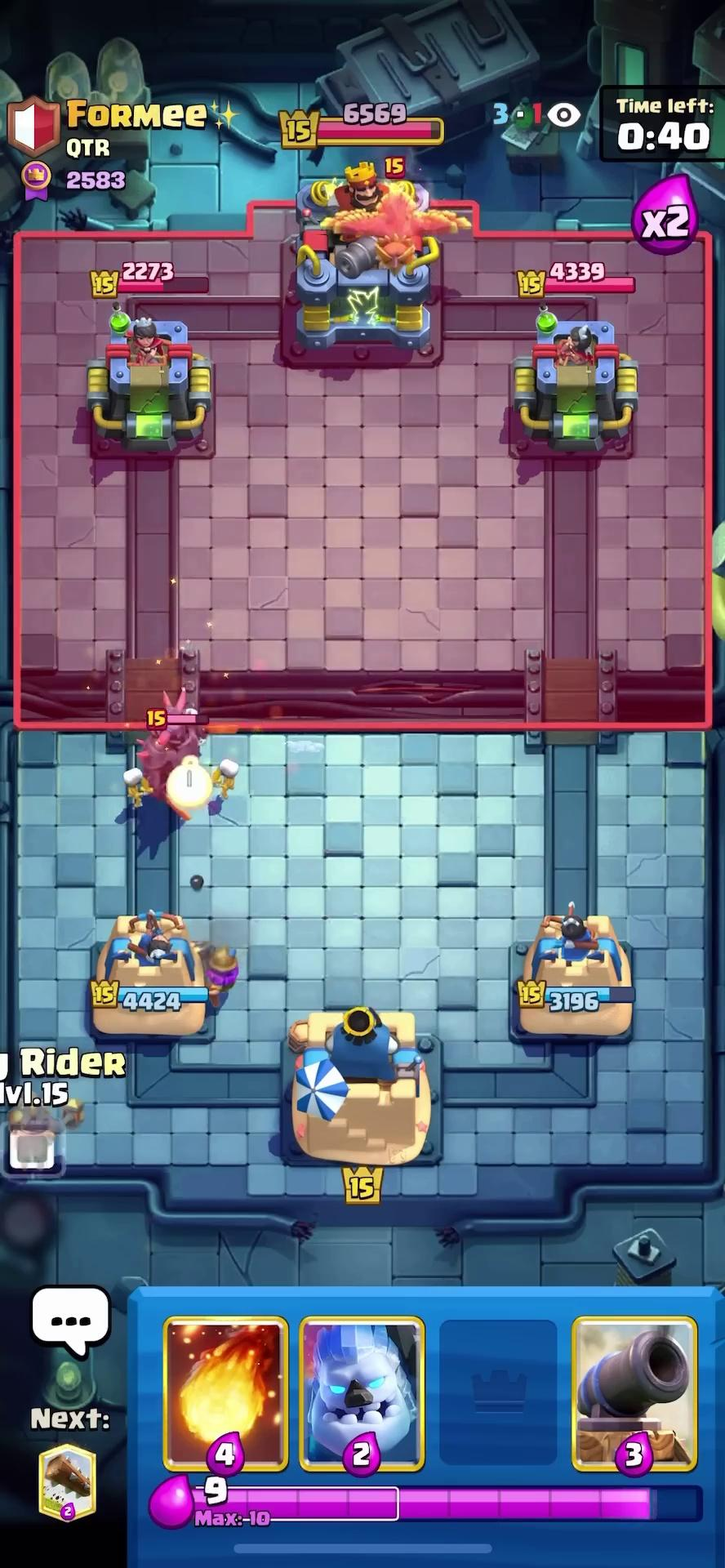musketeer: (186, 927, 257, 1011)
skeletons: (110, 755, 161, 800), (210, 751, 253, 800)
